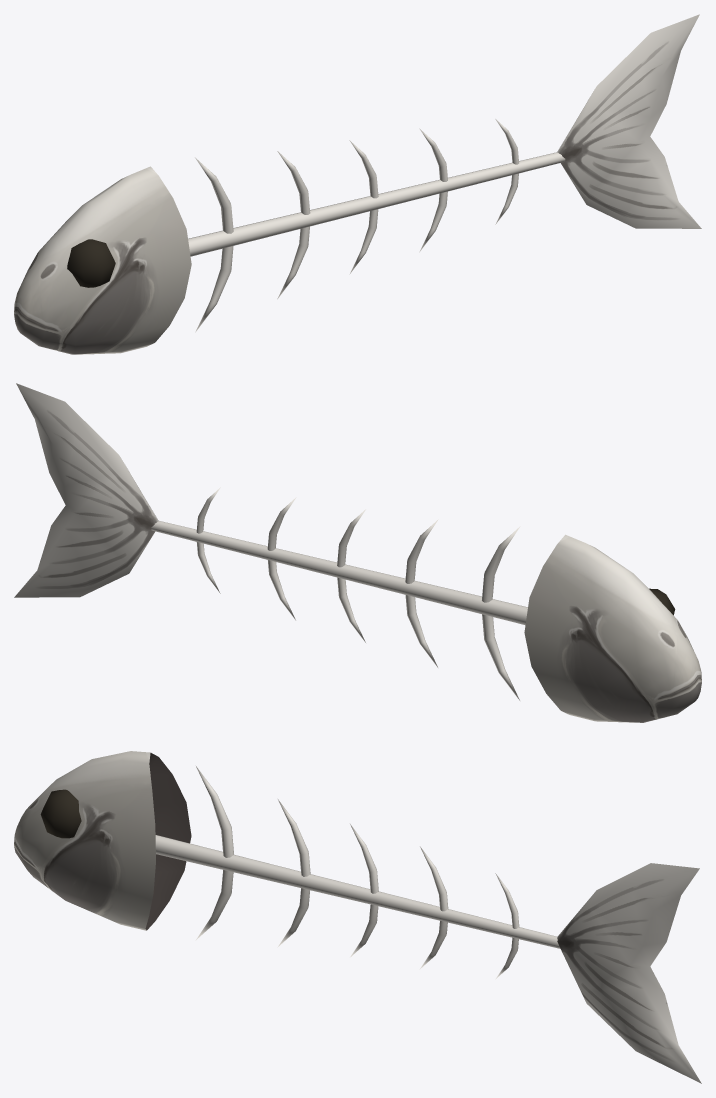
Rendered from SM_DeadFishFun.fbx.
3 views of the same model, one above another, from view 1: azimuth 30°, elevation 25°; view 2: azimuth 150°, elevation 25°; view 3: azimuth 330°, elevation 25° (orthographic).
Visible parts, largest first — view 1: Line016; view 2: Line016; view 3: Line016.
Part boxes in pixels (left/top/right/bottom): Line016: left=14, top=14, right=701, bottom=354; Line016: left=14, top=383, right=701, bottom=722; Line016: left=14, top=751, right=701, bottom=1083.
Size of the model in its own units: 83.7 by 25.11 by 9.1.
